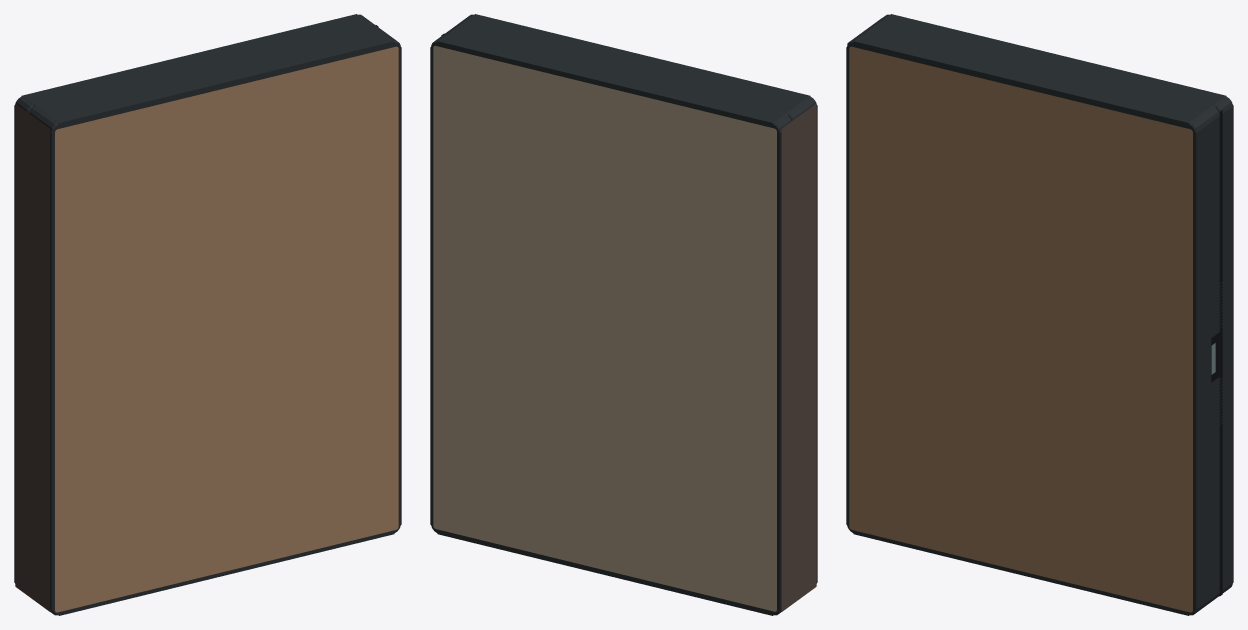
File: clamshell.glb
3 renders of one model, left to right at view 1: azimuth 30°, elevation 25°; view 2: azimuth 150°, elevation 25°; view 3: azimuth 330°, elevation 25°, orthographic.
Visible parts, largest first — view 1: Detail_clamshell, Shelf_clamshell; view 2: Shelf_clamshell, Detail_clamshell; view 3: Shelf_clamshell, Detail_clamshell.
Part boxes in pixels (x1,y1,x2,y2): Detail_clamshell: (15,14,400,615); Shelf_clamshell: (14,14,401,615); Shelf_clamshell: (430,14,817,615); Detail_clamshell: (431,14,816,615); Shelf_clamshell: (846,14,1233,615); Detail_clamshell: (847,14,1232,615).
Size of what is drawn, in the model's own units: 0.145 by 0.1949 by 0.027.
